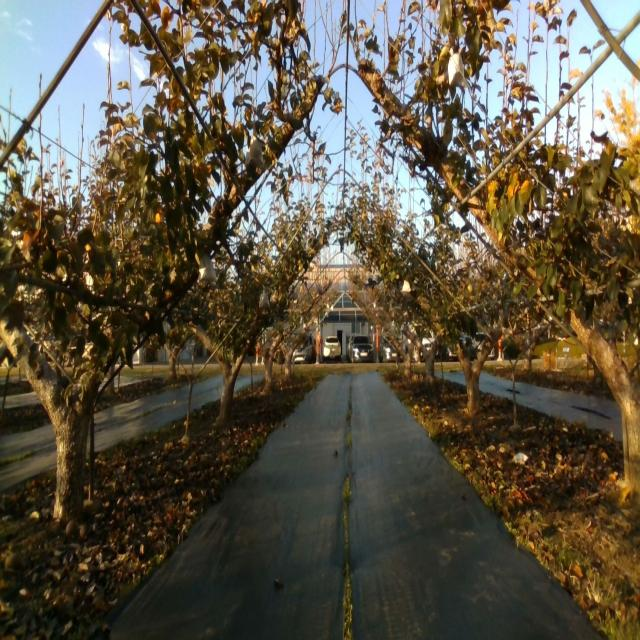pearbags: (448, 47, 467, 89), (246, 136, 264, 168), (198, 254, 217, 282), (259, 289, 270, 310)
